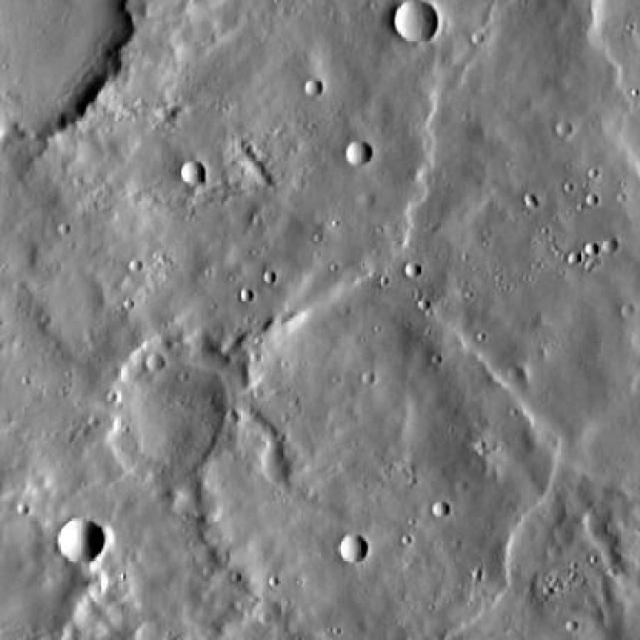crater: (97, 332, 246, 480), (0, 0, 126, 129), (54, 515, 100, 560), (396, 0, 440, 38), (336, 532, 366, 560), (346, 138, 372, 164), (175, 154, 198, 178), (140, 346, 160, 366), (431, 496, 451, 516), (302, 77, 321, 95), (554, 123, 571, 140), (405, 261, 421, 277)
